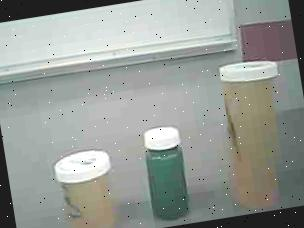Bottle A: (203, 46, 299, 217)
Bottle B: (47, 143, 124, 228)
Bottle C: (134, 118, 199, 228)
